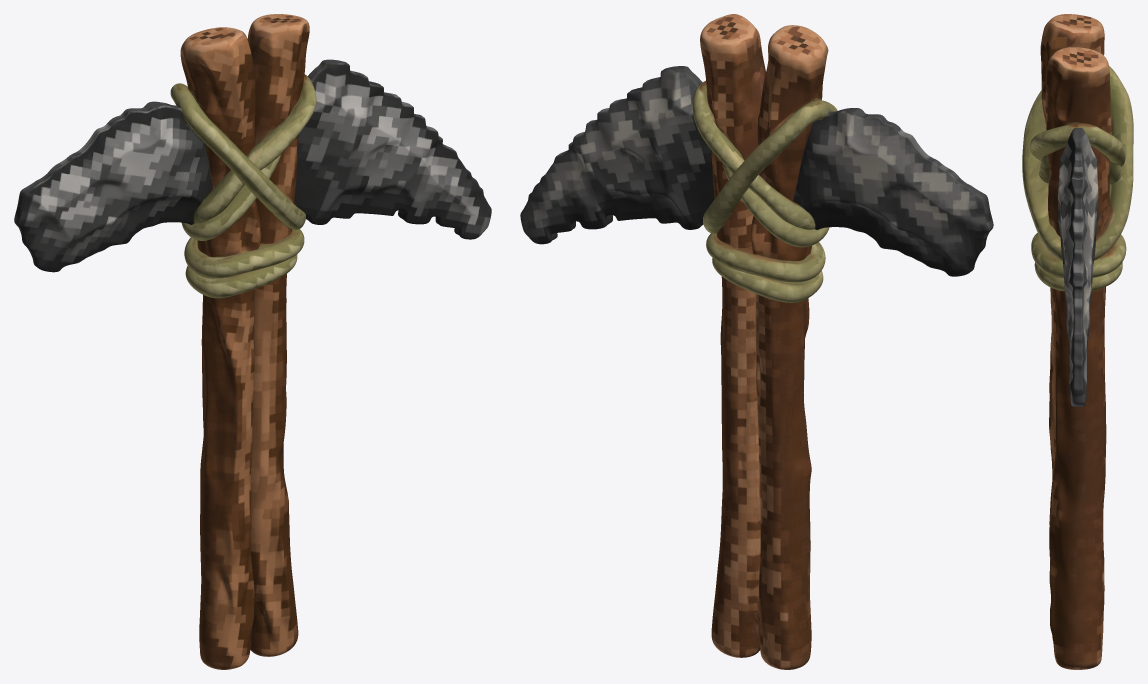
The model's file is Meshy_AI_Wild_Wanderer_1015205049_texture.fbx.
3 views of the same model, side by side, from view 1: azimuth 30°, elevation 25°; view 2: azimuth 150°, elevation 25°; view 3: azimuth 270°, elevation 25° (orthographic).
Parts seen in each view (by area): view 1: Mesh_0; view 2: Mesh_0; view 3: Mesh_0.
Part boxes in pixels (x1=…): Mesh_0: x1=14, y1=14, x2=491, y2=669; Mesh_0: x1=520, y1=14, x2=993, y2=669; Mesh_0: x1=1022, y1=14, x2=1133, y2=669.
Size of the model in its own units: 148 by 190 by 30.74.
1 material, 1 textured.
